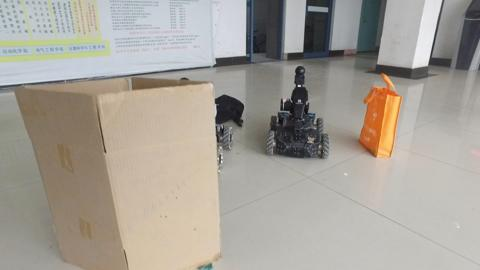bag: (361, 75, 398, 159)
chariot: (264, 67, 332, 160)
